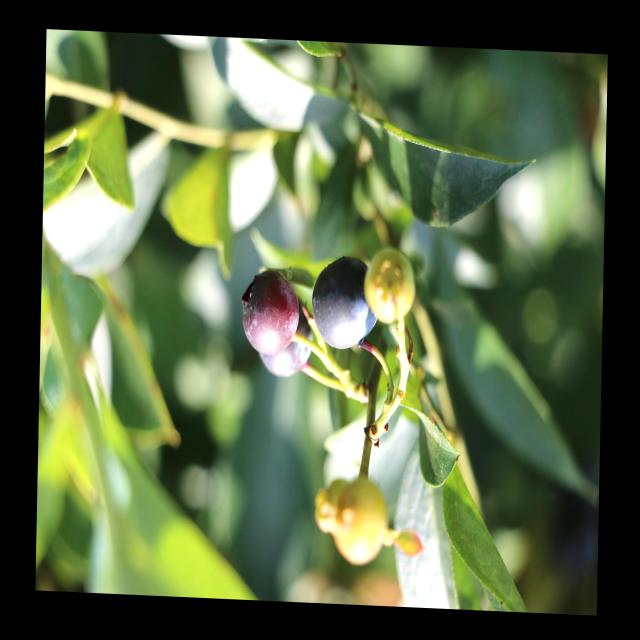blueberry: (308, 251, 386, 354), (238, 265, 303, 361), (256, 302, 316, 384)
blueberry-unripe: (330, 475, 386, 568), (364, 246, 418, 326)
